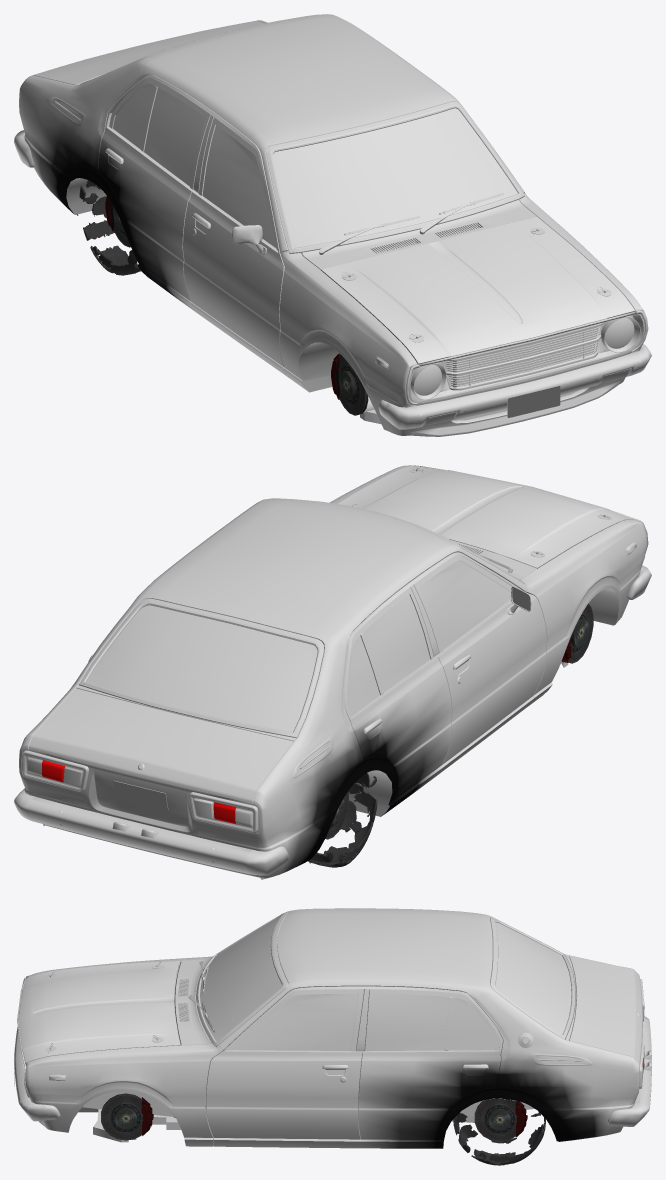
File: 53_THELMA.fbx
3 renders of one model, top to bottom at view 1: azimuth 30°, elevation 25°; view 2: azimuth 150°, elevation 25°; view 3: azimuth 270°, elevation 25°, orthographic. The views are drawn at different scales.
Parts seen in each view (by area): view 1: body_duco, body_glass, body_kit_00, body_gloss, body_undercarrage, body_rubber, Rotor; view 2: body_duco, body_glass, body_gloss, body_kit_00, body_undercarrage, body_rubber, Rotor, BrakeLights; view 3: body_duco, body_glass, body_kit_00, body_gloss, Rotor (×2), body_rubber, body_undercarrage.
Part boxes in pixels (x1,y1,x2,y2): body_duco: (19,14,648,436); body_glass: (113,83,634,395); body_kit_00: (321,217,634,364); body_gloss: (14,14,651,429); body_undercarrage: (66,178,597,424); body_rubber: (55,73,521,369); Rotor: (338,354,368,415); body_duco: (19,465,648,879); body_glass: (86,560,511,732); body_gloss: (14,465,651,875); body_kit_00: (339,466,634,568); body_undercarrage: (113,588,618,816); body_rubber: (83,511,634,770); Rotor: (568,603,593,663); BrakeLights: (42,760,236,824); body_duco: (25,908,642,1148); body_glass: (200,917,571,1050); body_kit_00: (18,961,180,1063); body_gloss: (14,912,651,1126); Rotor (×2): (101,1093,516,1141); body_rubber: (49,913,578,1080); body_undercarrage: (14,1051,534,1146).
Size of the model in its own units: 1.67 by 1.29 by 4.08.
